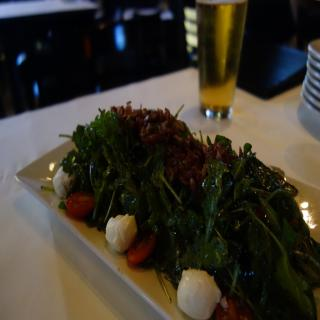tomato: (125, 232, 156, 265), (66, 190, 96, 220)
